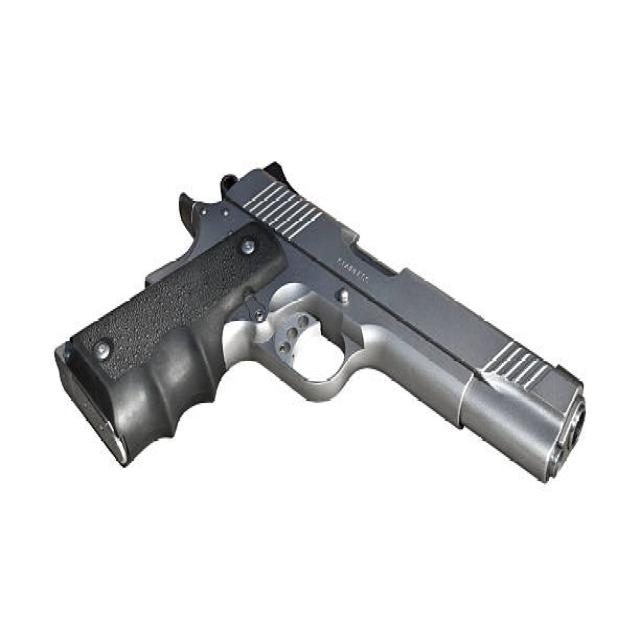pistol: (49, 151, 592, 494)
